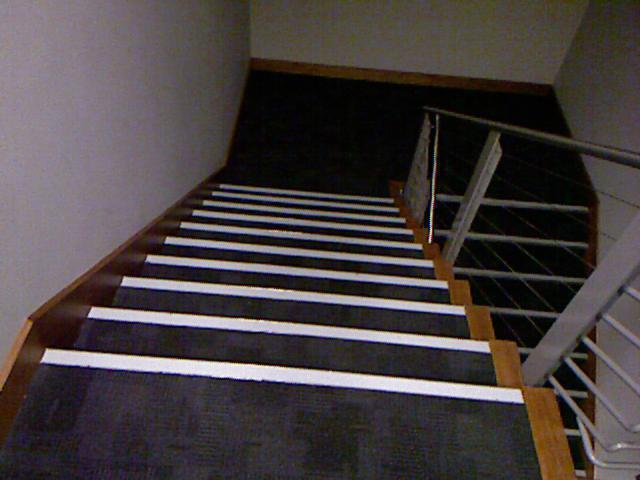Escaleras: (97, 170, 478, 418), (420, 201, 600, 479)
